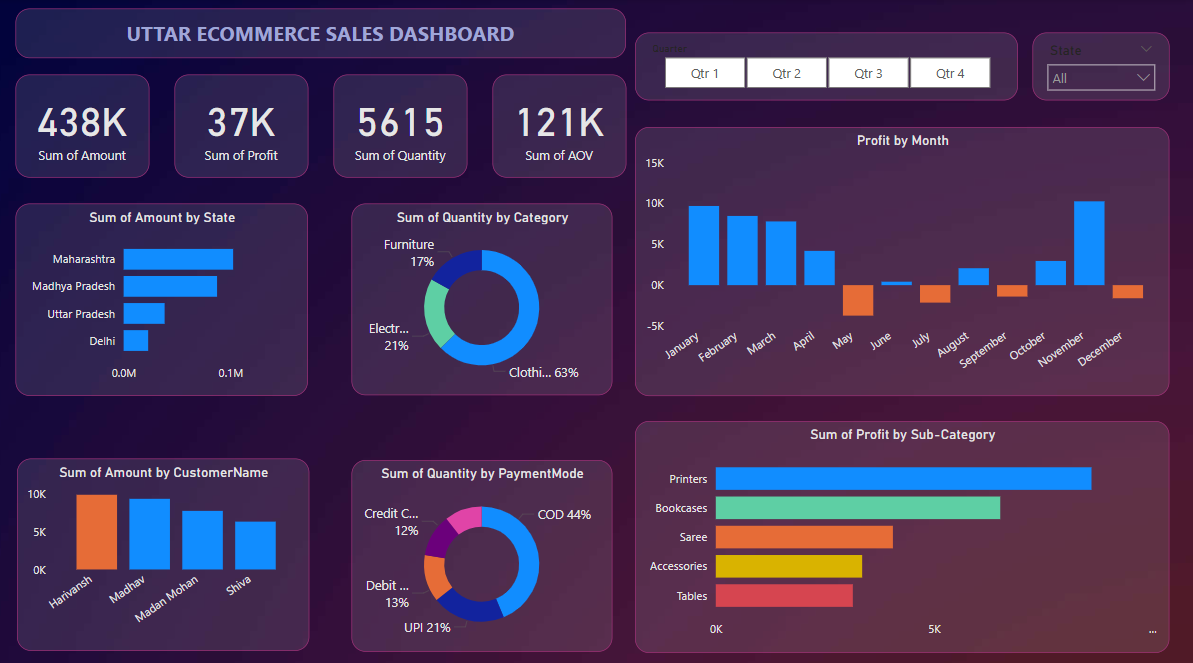

This screenshot's page, from the dashboard's own definition file:
{"tool":"powerbi","page":{"name":"Page 1","canvas":[1280,720],"ordinal":0},"visuals":[{"type":"textbox","box":[23.9,11.1,647.4,52.5],"z":0},{"type":"columnChart","title":"Profit by Month","fields":{"Category":["Orders.Order Date.Variation.Date Hierarchy.Month"],"Y":["Details.Profit"]},"box":[680.3,136.1,566.9,285.4],"z":1000},{"type":"barChart","fields":{"Category":["Details.Sub-Category"],"Y":["Details.Profit"]},"box":[680.3,447.9,566.9,245.7],"z":2000},{"type":"donutChart","fields":{"Y":["Details.Quantity"],"Category":["Details.PaymentMode"]},"box":[380.2,489.9,276.8,203.6],"z":3000},{"type":"donutChart","fields":{"Category":["Details.Category"],"Y":["Details.Quantity"]},"box":[380.2,217.9,276.8,203.6],"z":4000},{"type":"card","fields":{"Values":["Details.Amount"]},"box":[24.6,81.3,141.7,109.6],"z":5000},{"type":"card","fields":{"Values":["Details.Quantity"]},"box":[360.9,81.3,141.7,109.6],"z":6000},{"type":"card","fields":{"Values":["Details.Profit"]},"box":[192.8,81.3,141.7,109.6],"z":7000},{"type":"card","fields":{"Values":["Details.AOV"]},"box":[529.1,81.3,141.7,109.6],"z":8000},{"type":"barChart","fields":{"Category":["Orders.State"],"Y":["Details.Amount"]},"box":[24.6,217.3,309.9,204.1],"z":9000},{"type":"columnChart","fields":{"Category":["Orders.CustomerName"],"Y":["Details.Amount"]},"box":[25,489,310,204],"z":10000},{"type":"slicer","fields":{"Values":["Orders.Order Date.Variation.Date Hierarchy.Quarter"]},"box":[680.3,35.9,406.3,71.8],"z":11000},{"type":"slicer","fields":{"Values":["Orders.State"]},"box":[1101.7,35.9,145.5,71.8],"z":12000}]}

Visuals, with their boxes in screenshot pixels (x1, y1, x2, y2), scaled from the page's 1280x720 canvas onto the 1193x663 screenshot:
textbox: (left=22, top=10, right=626, bottom=59)
"Profit by Month" columnChart: (left=634, top=125, right=1162, bottom=388)
barChart - Details.Sub-Category x Details.Profit: (left=634, top=412, right=1162, bottom=639)
donutChart - Details.Quantity x Details.PaymentMode: (left=354, top=451, right=612, bottom=639)
donutChart - Details.Category x Details.Quantity: (left=354, top=201, right=612, bottom=388)
card - Details.Amount: (left=23, top=75, right=155, bottom=176)
card - Details.Quantity: (left=336, top=75, right=468, bottom=176)
card - Details.Profit: (left=180, top=75, right=312, bottom=176)
card - Details.AOV: (left=493, top=75, right=625, bottom=176)
barChart - Orders.State x Details.Amount: (left=23, top=200, right=312, bottom=388)
columnChart - Orders.CustomerName x Details.Amount: (left=23, top=450, right=312, bottom=638)
slicer - Orders.Order Date.Variation.Date Hierarchy.Quarter: (left=634, top=33, right=1013, bottom=99)
slicer - Orders.State: (left=1027, top=33, right=1162, bottom=99)
